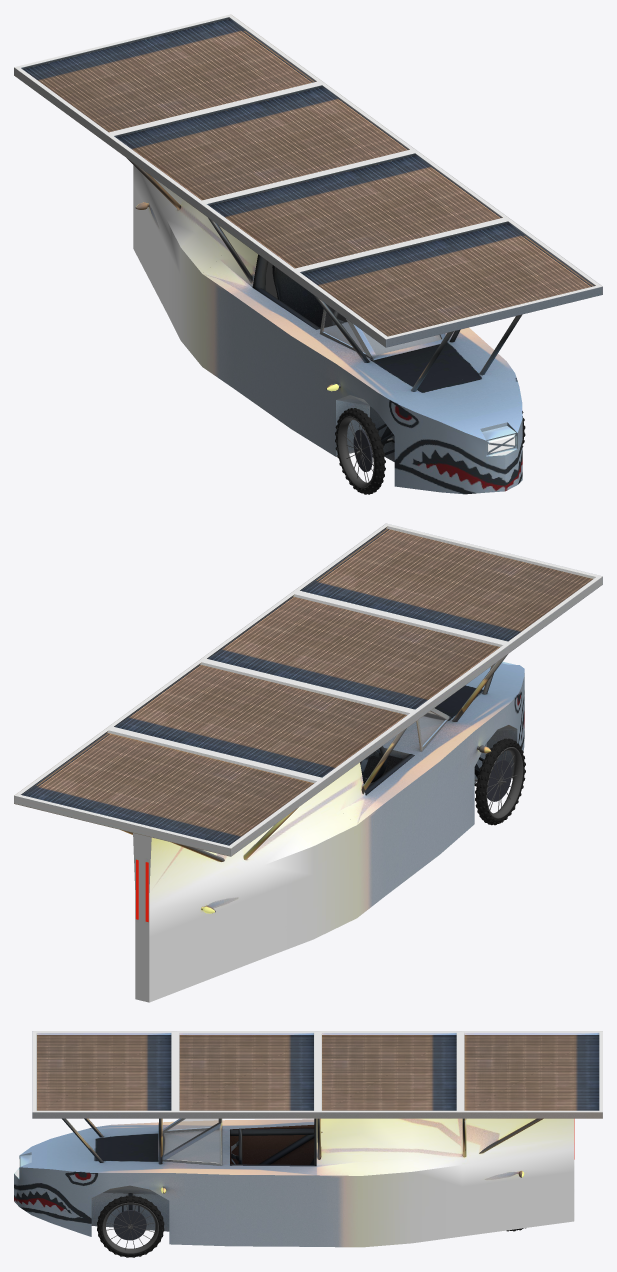
The model's file is DNF-solar-car-model.glb.
3 views of the same model, one above another, from view 1: azimuth 30°, elevation 25°; view 2: azimuth 150°, elevation 25°; view 3: azimuth 270°, elevation 25° (orthographic). The views are drawn at different scales.
Parts seen in each view (by area): view 1: Solar Panels, Aeroshell, Solar Array, Tire.001, Array Supports, Seat, Windshield, Windshield Frame, Headlight Base; view 2: Solar Panels, Aeroshell, Solar Array, Tire.001, Array Supports, brake rotor left; view 3: Aeroshell, Solar Panels, Solar Array, Tire, Windshield, Array Supports, Safety Frame, Windshield Frame, brake rotor right.
Part boxes in pixels (x1,y1,x2,y2): Solar Panels: [23, 18, 594, 336]; Aeroshell: [133, 165, 522, 494]; Solar Array: [14, 14, 602, 347]; Tire.001: [335, 408, 385, 494]; Array Supports: [99, 38, 522, 391]; Seat: [272, 265, 347, 327]; Windshield: [323, 306, 440, 354]; Windshield Frame: [319, 309, 448, 360]; Headlight Base: [482, 426, 516, 455]; Solar Panels: [22, 528, 592, 845]; Aeroshell: [133, 663, 524, 1002]; Solar Array: [14, 523, 602, 856]; Tire.001: [475, 738, 525, 825]; Array Supports: [121, 654, 507, 861]; brake rotor left: [487, 760, 511, 801]; Aeroshell: [14, 1118, 574, 1247]; Solar Panels: [37, 1035, 599, 1110]; Solar Array: [32, 1031, 602, 1118]; Tire: [97, 1195, 164, 1257]; Windshield: [163, 1118, 219, 1162]; Array Supports: [62, 1118, 543, 1164]; Safety Frame: [230, 1128, 315, 1166]; Windshield Frame: [158, 1118, 222, 1165]; brake rotor right: [113, 1210, 146, 1240].
Size of the model in its own units: 4.08 by 3.74 by 12.51.
Materials: 23 (17 with a texture image).
